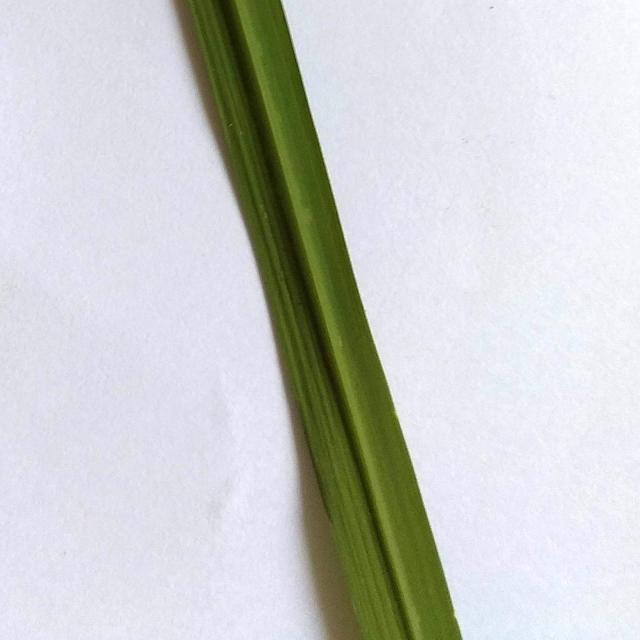healthy: (146, 0, 470, 640)
